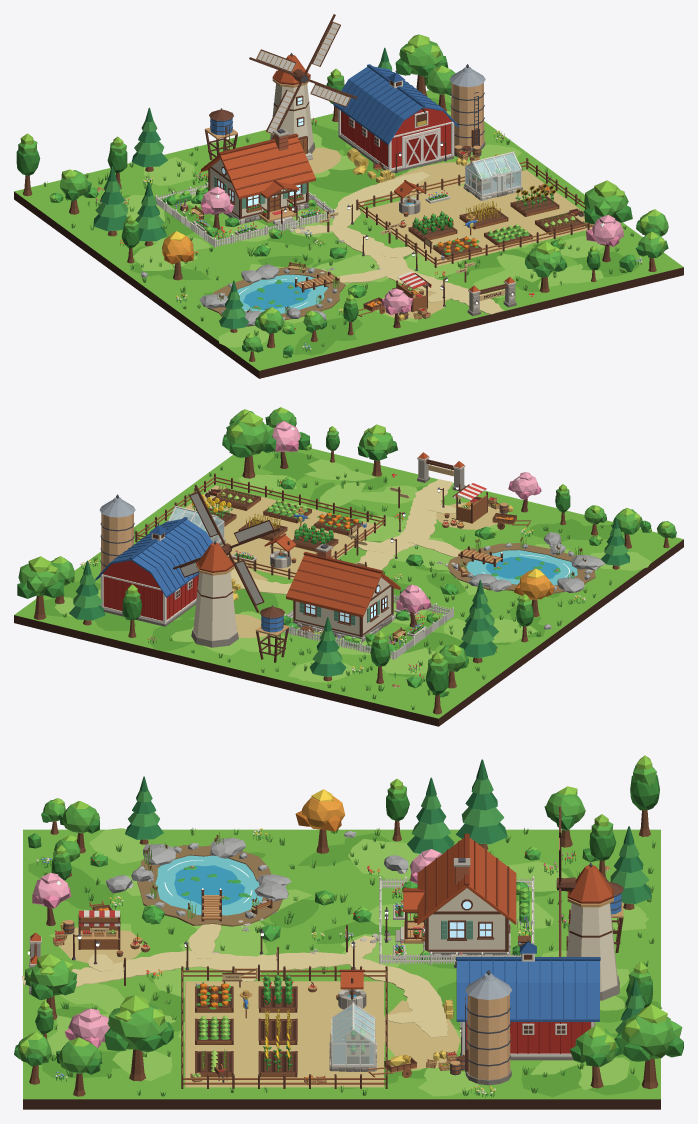
File: Mossvale_Level.fbx
3 views of the same model, one above another, from view 1: azimuth 30°, elevation 25°; view 2: azimuth 150°, elevation 25°; view 3: azimuth 270°, elevation 25° (orthographic). The views are drawn at different scales.
Parts seen in each view (by area): view 1: Ground, Grass_Patches_Light, Barn_01, Grass_Patches_Dark, Cottage_01, Garden_Floor, Windmill_Blades_01, Silo_01, Path_Main, Pond_Water, Greenhouse_01, Windmill_Tower_01 (+32 smaller); view 2: Ground, Grass_Patches_Light, Grass_Patches_Dark, Barn_01, Cottage_01, Windmill_Tower_01, Garden_Floor, Path_Main, Windmill_Blades_01, Pond_Water, Tree_Oak_A_01, Silo_01 (+30 smaller); view 3: Ground, Grass_Patches_Light, Garden_Floor, Cottage_01, Barn_01, Grass_Patches_Dark, Silo_01, Windmill_Tower_01, Pond_Water, Path_Main, Yards_Dirt, Tree_Oak_A_01 (+36 smaller).
Boxes of the visible parts, bbox=[...] form: Ground: bbox=[14, 90, 683, 378]; Grass_Patches_Light: bbox=[123, 111, 604, 347]; Barn_01: bbox=[333, 64, 459, 172]; Grass_Patches_Dark: bbox=[123, 98, 639, 355]; Cottage_01: bbox=[201, 128, 315, 225]; Garden_Floor: bbox=[360, 170, 593, 266]; Windmill_Blades_01: bbox=[249, 14, 357, 139]; Silo_01: bbox=[449, 64, 485, 151]; Path_Main: bbox=[332, 227, 503, 314]; Pond_Water: bbox=[237, 274, 328, 313]; Greenhouse_01: bbox=[463, 151, 522, 200]; Windmill_Tower_01: bbox=[270, 53, 315, 160]; Ground: bbox=[14, 448, 683, 726]; Grass_Patches_Light: bbox=[54, 459, 651, 682]; Grass_Patches_Dark: bbox=[43, 452, 633, 677]; Barn_01: bbox=[95, 517, 212, 626]; Cottage_01: bbox=[286, 544, 400, 642]; Windmill_Tower_01: bbox=[191, 541, 238, 647]; Garden_Floor: bbox=[166, 485, 381, 579]; Path_Main: bbox=[356, 479, 452, 570]; Windmill_Blades_01: bbox=[173, 484, 280, 612]; Pond_Water: bbox=[466, 550, 577, 585]; Tree_Oak_A_01: bbox=[222, 411, 276, 478]; Silo_01: bbox=[99, 494, 135, 573]; Ground: bbox=[23, 829, 660, 1109]; Grass_Patches_Light: bbox=[47, 828, 648, 1096]; Garden_Floor: bbox=[185, 981, 383, 1087]; Cottage_01: bbox=[395, 833, 516, 959]; Barn_01: bbox=[453, 939, 600, 1060]; Grass_Patches_Dark: bbox=[28, 833, 661, 1097]; Silo_01: bbox=[465, 970, 511, 1085]; Windmill_Tower_01: bbox=[560, 862, 619, 1000]; Pond_Water: bbox=[155, 855, 262, 915]; Path_Main: bbox=[22, 950, 350, 986]; Yards_Dirt: bbox=[58, 927, 460, 1069]; Tree_Oak_A_01: bbox=[104, 995, 173, 1081].
Bounding box in the file's own units: 51.15 × 16.29 × 52.5.
